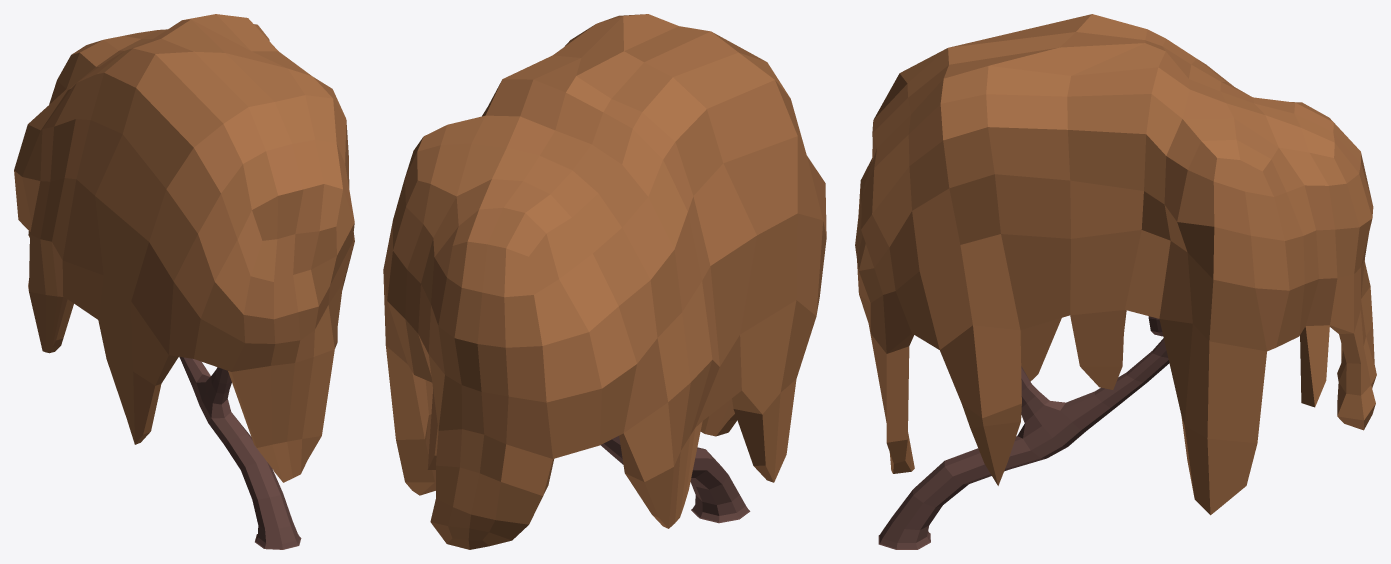
Rendered from Willow_Autumn_2.gltf.
3 renders of one model, left to right at view 1: azimuth 30°, elevation 25°; view 2: azimuth 150°, elevation 25°; view 3: azimuth 270°, elevation 25°, orthographic. The views are drawn at different scales.
Parts seen in each view (by area): view 1: Willow_Autumn_2; view 2: Willow_Autumn_2; view 3: Willow_Autumn_2.
Part boxes in pixels (x1,y1,x2,y2): Willow_Autumn_2: (14, 14, 354, 549); Willow_Autumn_2: (383, 14, 826, 549); Willow_Autumn_2: (855, 14, 1376, 549).
Bounding box in the file's own units: 1.95 × 3.32 × 3.11.
